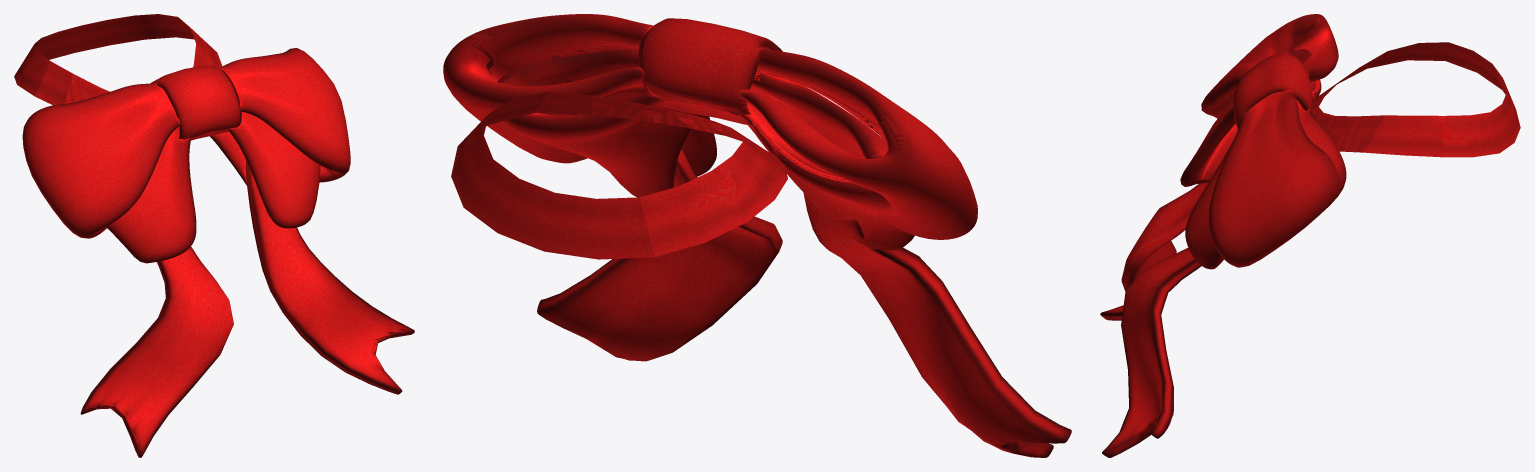
Rendered from Monio.glb.
3 views of the same model, side by side, from view 1: azimuth 30°, elevation 25°; view 2: azimuth 150°, elevation 25°; view 3: azimuth 270°, elevation 25° (orthographic). The views are drawn at different scales.
Visible parts, largest first — view 1: MONO; view 2: MONO; view 3: MONO.
Boxes of the visible parts, left/top/right/bottom form: MONO: left=14, top=14, right=414, bottom=457; MONO: left=443, top=14, right=1071, bottom=457; MONO: left=1100, top=14, right=1520, bottom=457.
Size of the model in its own units: 0.6907 by 0.5895 by 0.6925.
Materials: 1 (1 with a texture image).
